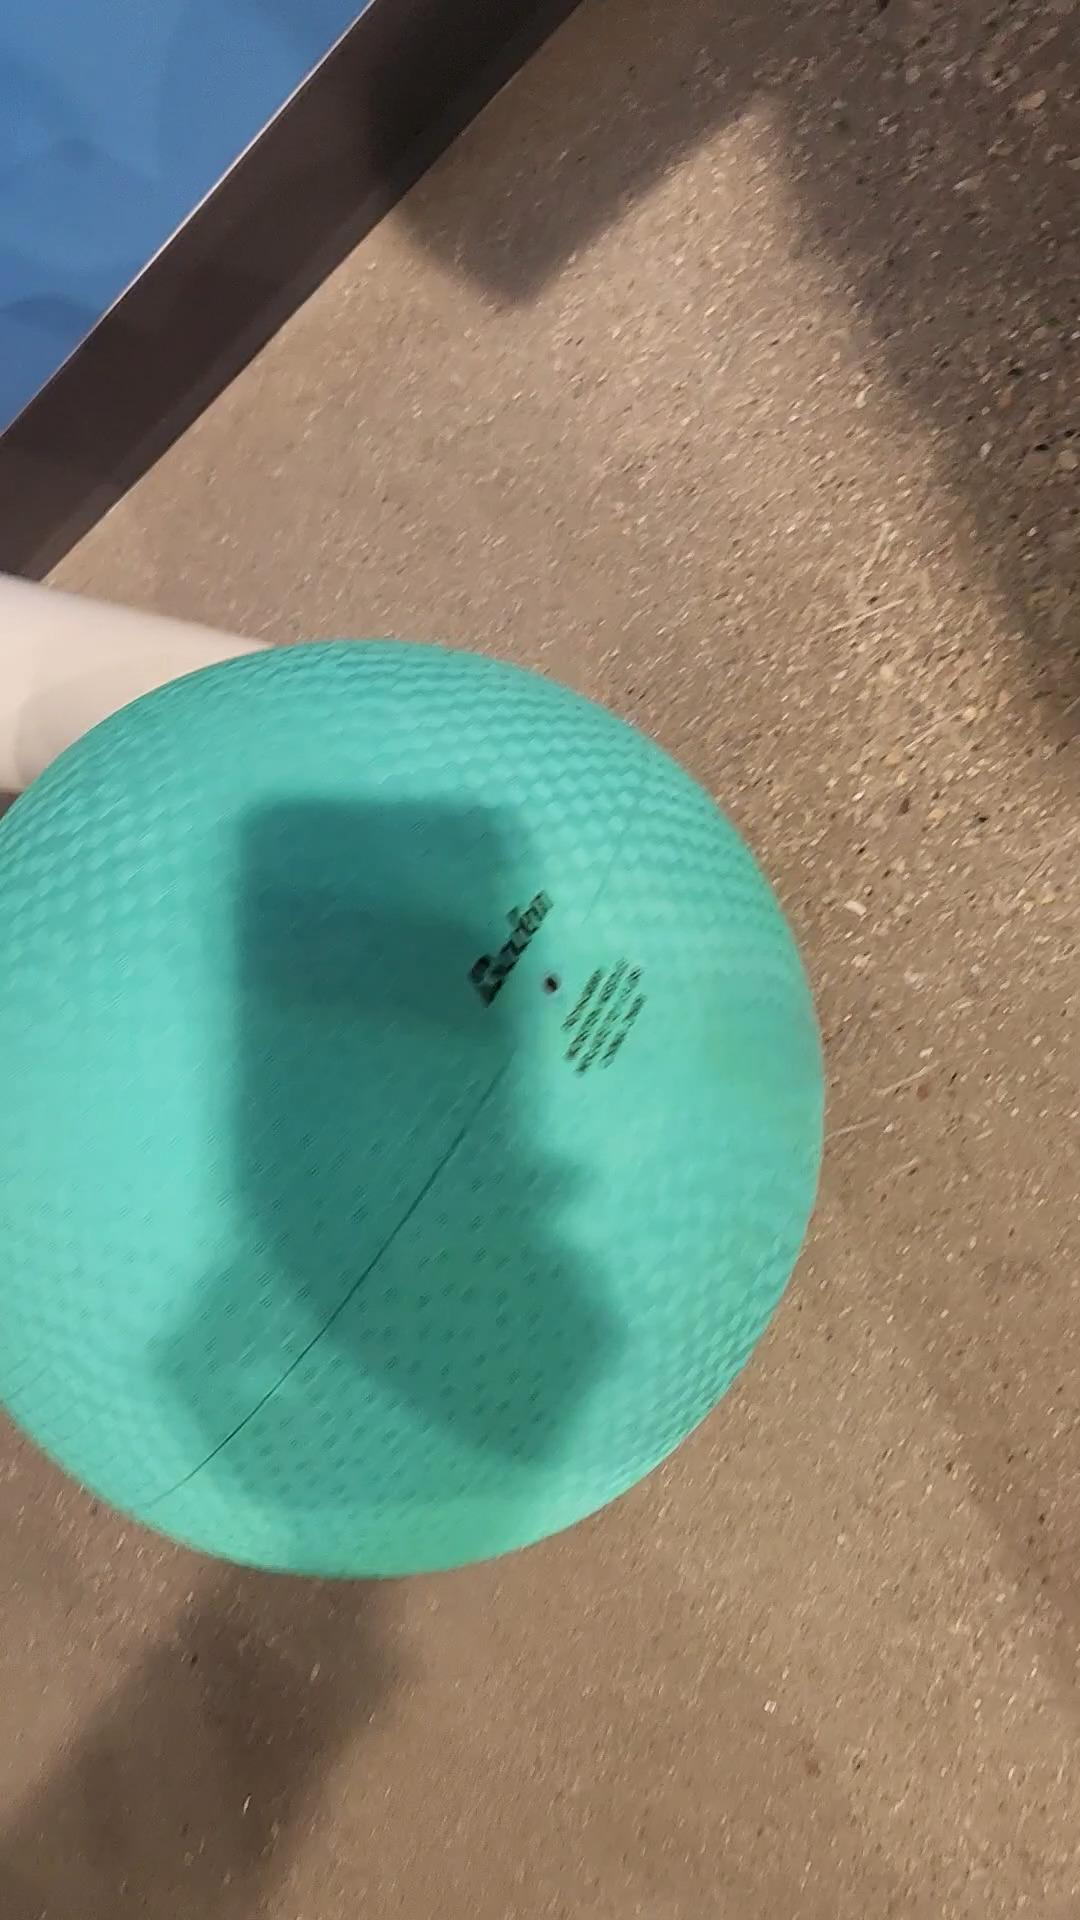algae: (0, 641, 837, 1597)
coral: (0, 564, 287, 807)
